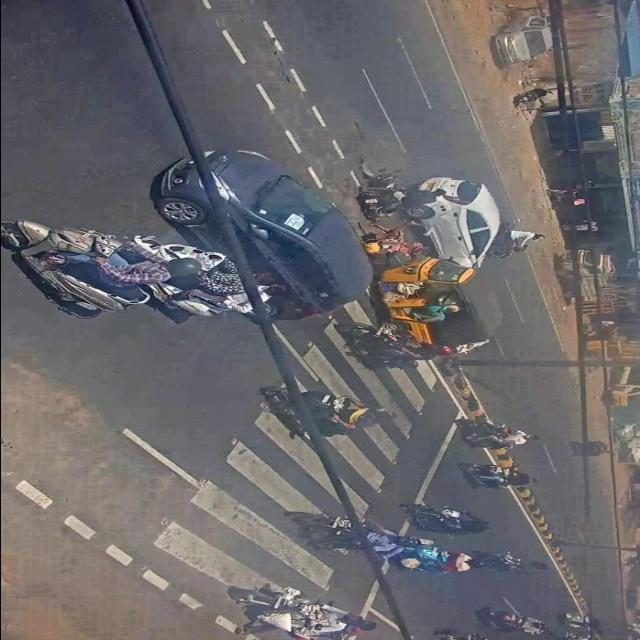accident: (357, 166, 500, 354)
non_accident: (0, 136, 371, 325)
